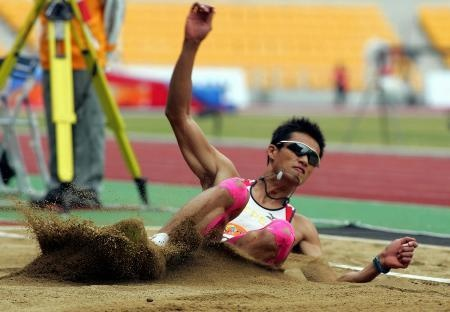falling: (118, 0, 432, 302)
